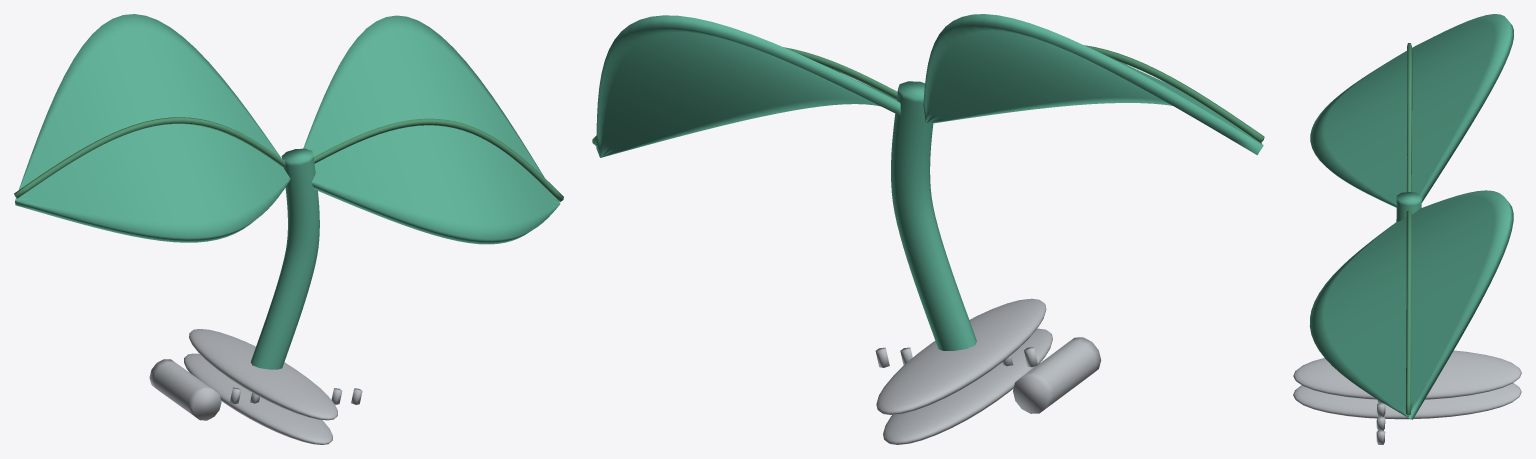
Rendered from Masculine-flow-pashmina261-sprout.glb.
The picture shows the model from 3 angles, left to right: view 1: azimuth 30°, elevation 25°; view 2: azimuth 150°, elevation 25°; view 3: azimuth 270°, elevation 25°; orthographic projection. The views are drawn at different scales.
Visible parts, largest first — view 1: 226 extra / Accessory / mint226, 226 extra / Sprout / clip silver235, 226 extra / Sprout / leaf vein235; view 2: 226 extra / Accessory / mint226, 226 extra / Sprout / clip silver235, 226 extra / Sprout / leaf vein235; view 3: 226 extra / Accessory / mint226, 226 extra / Sprout / clip silver235, 226 extra / Sprout / leaf vein235.
Boxes of the visible parts, x1,y1,x2,y2 form: 226 extra / Accessory / mint226: (15,14,560,369); 226 extra / Sprout / clip silver235: (149,329,362,444); 226 extra / Sprout / leaf vein235: (14,117,563,201); 226 extra / Accessory / mint226: (596,14,1263,350); 226 extra / Sprout / clip silver235: (875,298,1101,444); 226 extra / Sprout / leaf vein235: (592,45,1264,145); 226 extra / Accessory / mint226: (1309,14,1513,419); 226 extra / Sprout / clip silver235: (1293,350,1521,444); 226 extra / Sprout / leaf vein235: (1406,43,1412,415).
Bounding box in the file's own units: 0.2643 × 0.1739 × 0.104.
